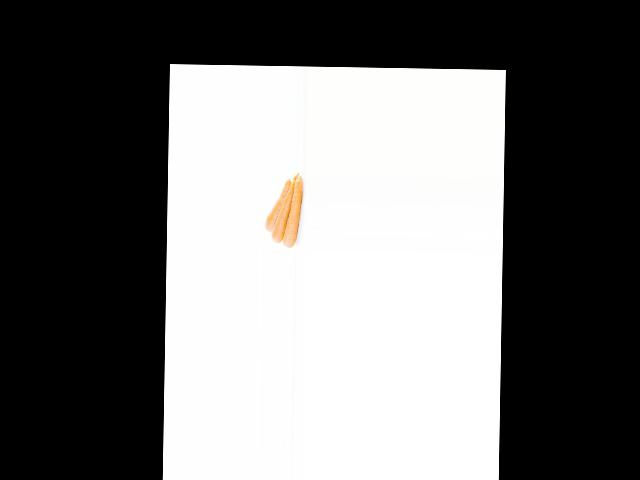carrot: (282, 176, 307, 250)
